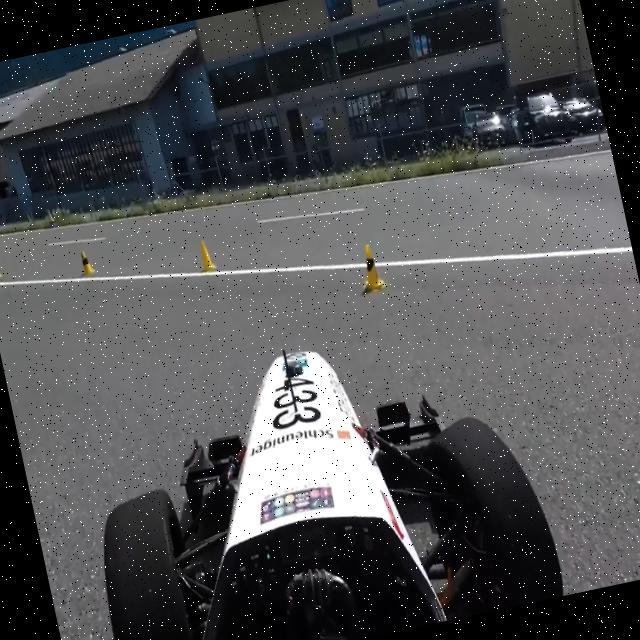yellow_cone: (340, 221, 389, 295), (190, 231, 220, 268), (70, 238, 98, 275), (0, 236, 15, 285)
